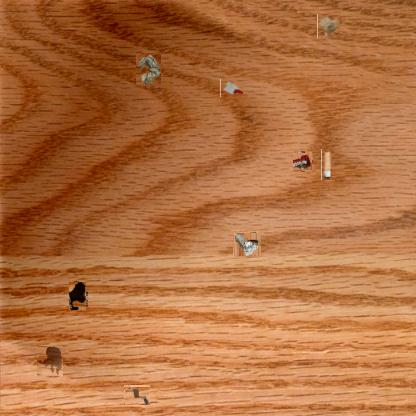dirty: (135, 52, 161, 86), (234, 231, 260, 257), (317, 14, 340, 38), (124, 386, 150, 406), (220, 79, 243, 97), (321, 148, 332, 180), (294, 152, 312, 171)
liquid: (37, 346, 63, 376), (70, 282, 88, 310)
